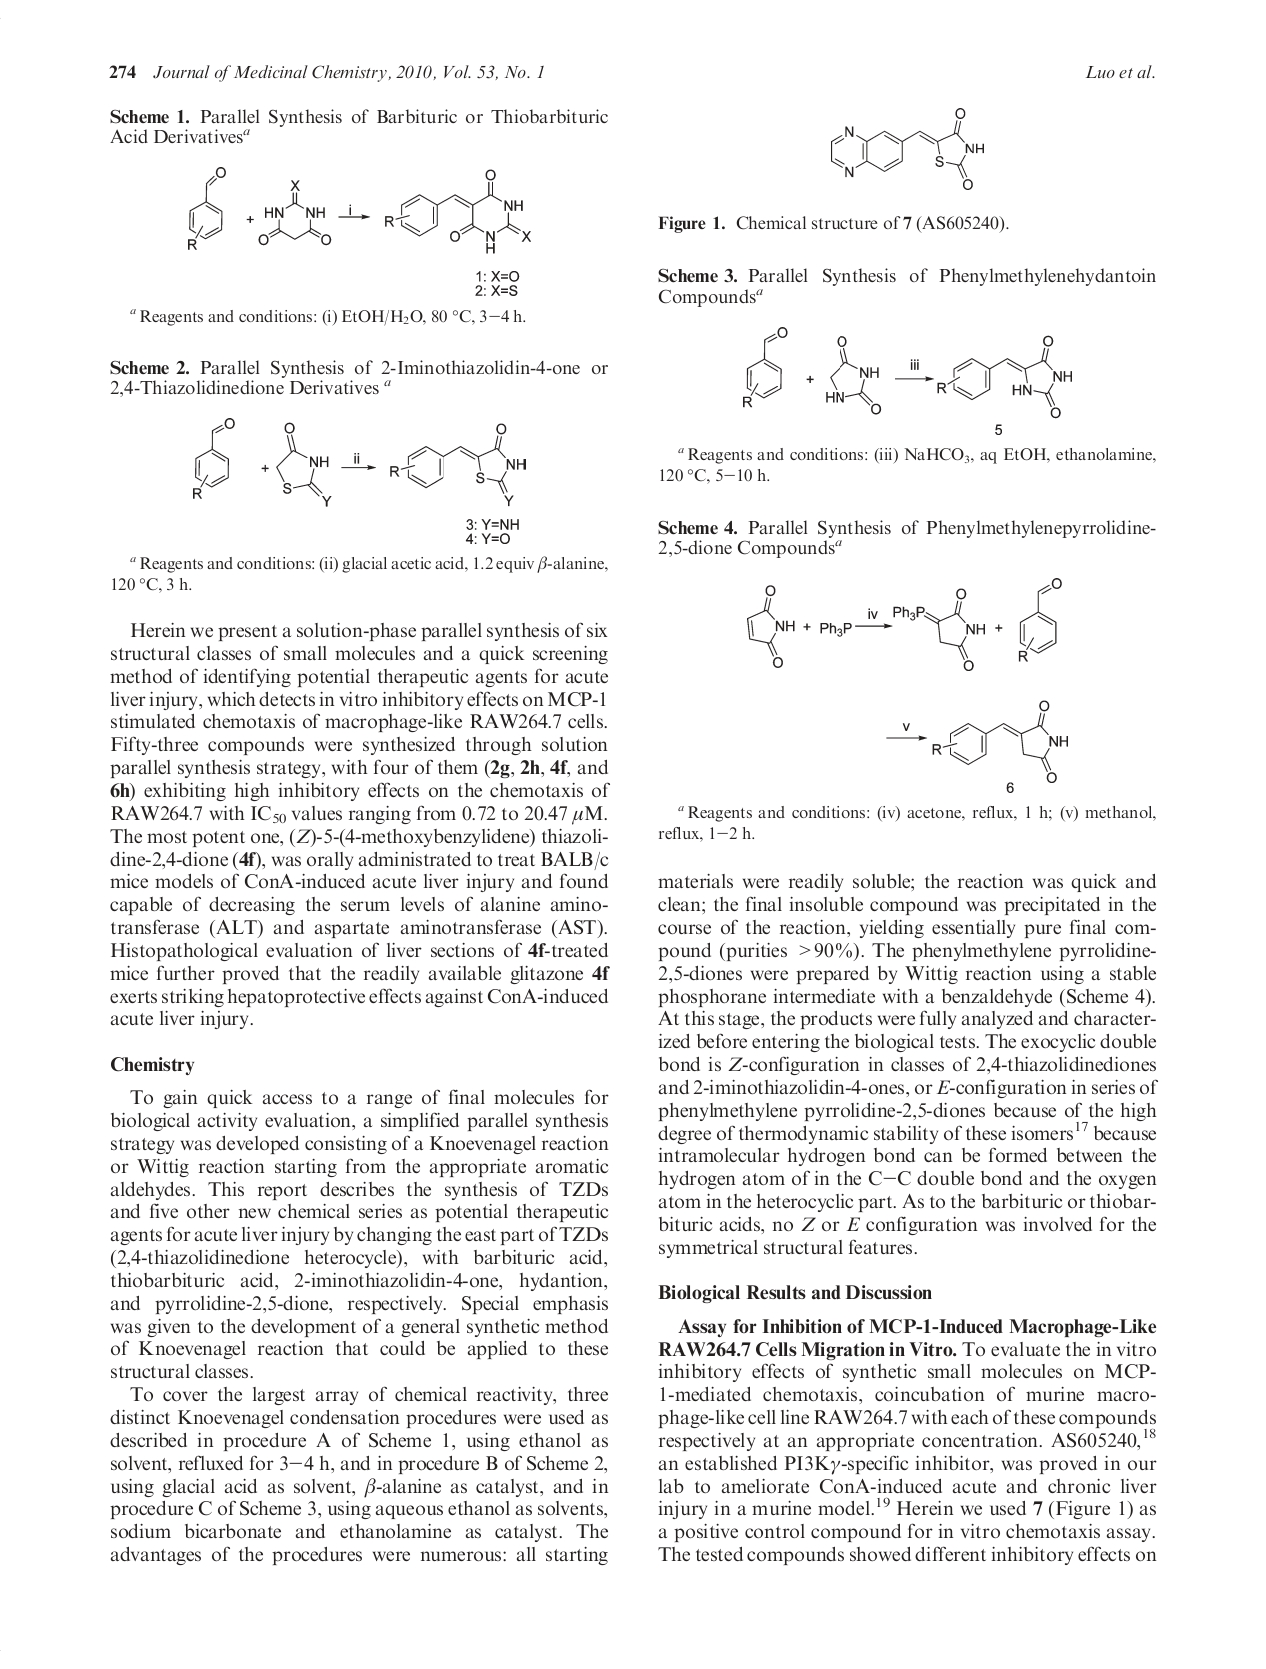exist_molecular: (826, 102, 987, 192), (384, 168, 535, 258), (934, 334, 1075, 422), (390, 423, 531, 509), (930, 700, 1071, 785), (891, 586, 987, 673), (253, 176, 334, 250), (273, 418, 334, 512), (822, 334, 884, 416), (188, 414, 239, 500), (739, 324, 791, 410), (181, 164, 230, 253), (1016, 575, 1065, 664), (746, 585, 797, 670)
